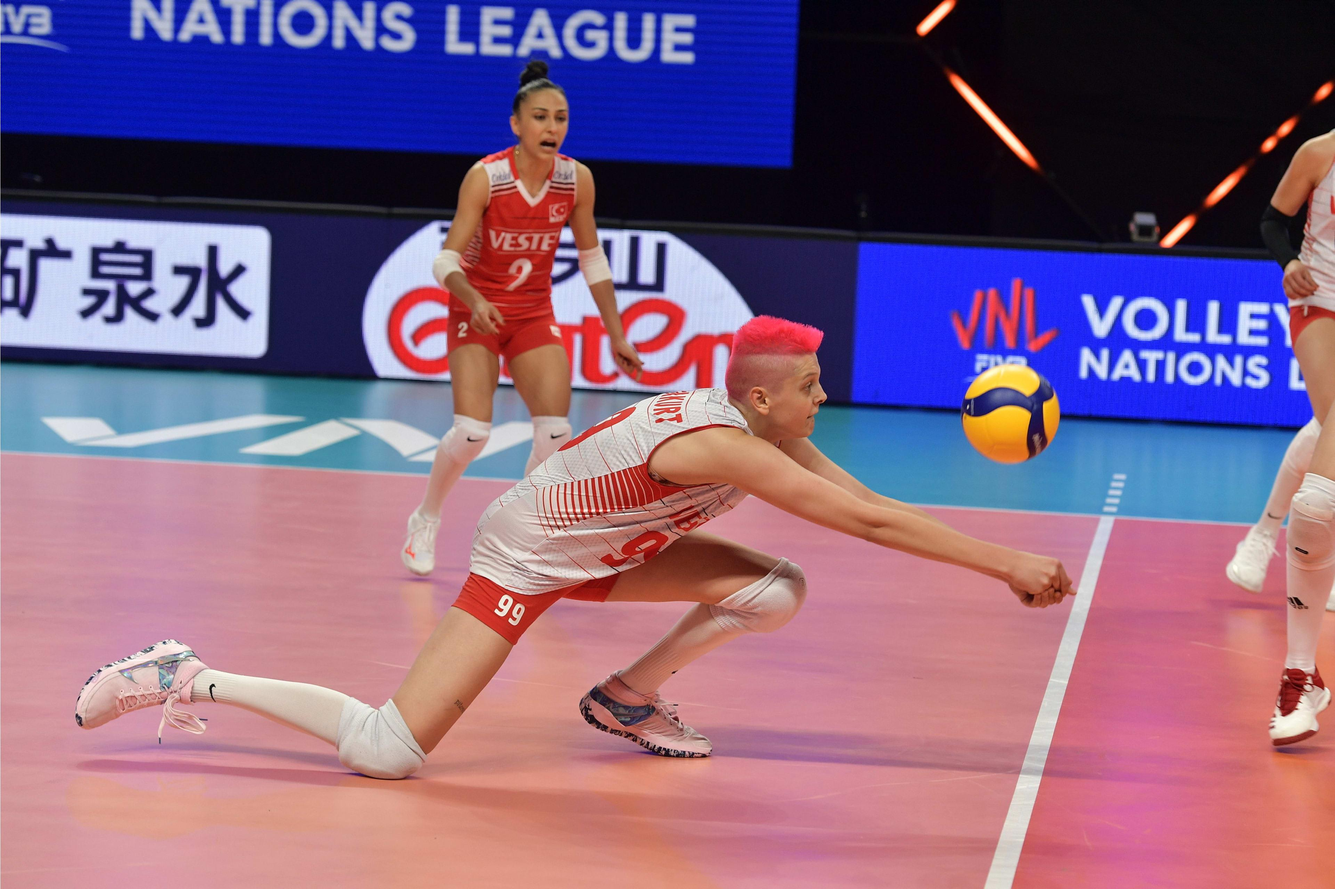ballon_volley: (958, 362, 1060, 464)
